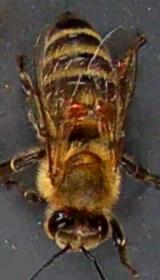varroa_mite: (62, 98, 90, 121), (92, 100, 113, 120)
